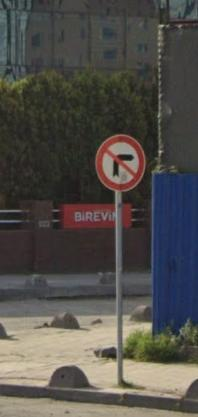rightturnsareforbidden: (97, 134, 144, 190)
